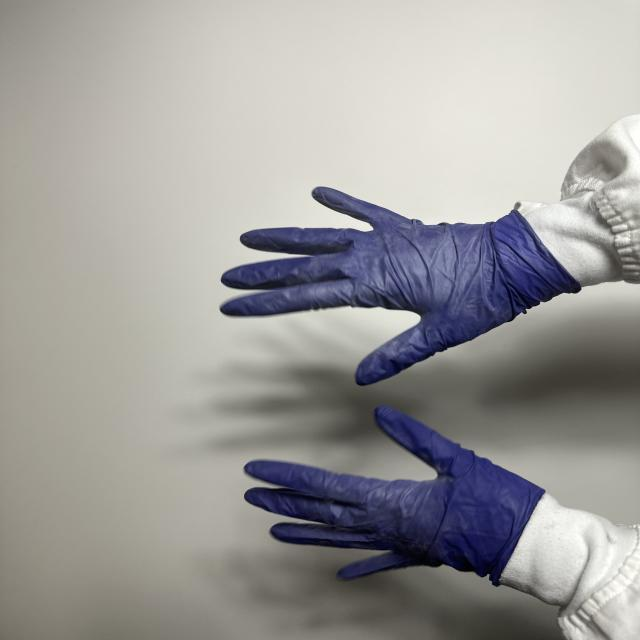gloves_contaminated: (221, 187, 580, 385), (245, 406, 543, 584)
